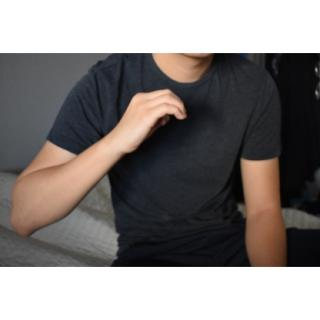JEEM: (113, 84, 192, 159)
